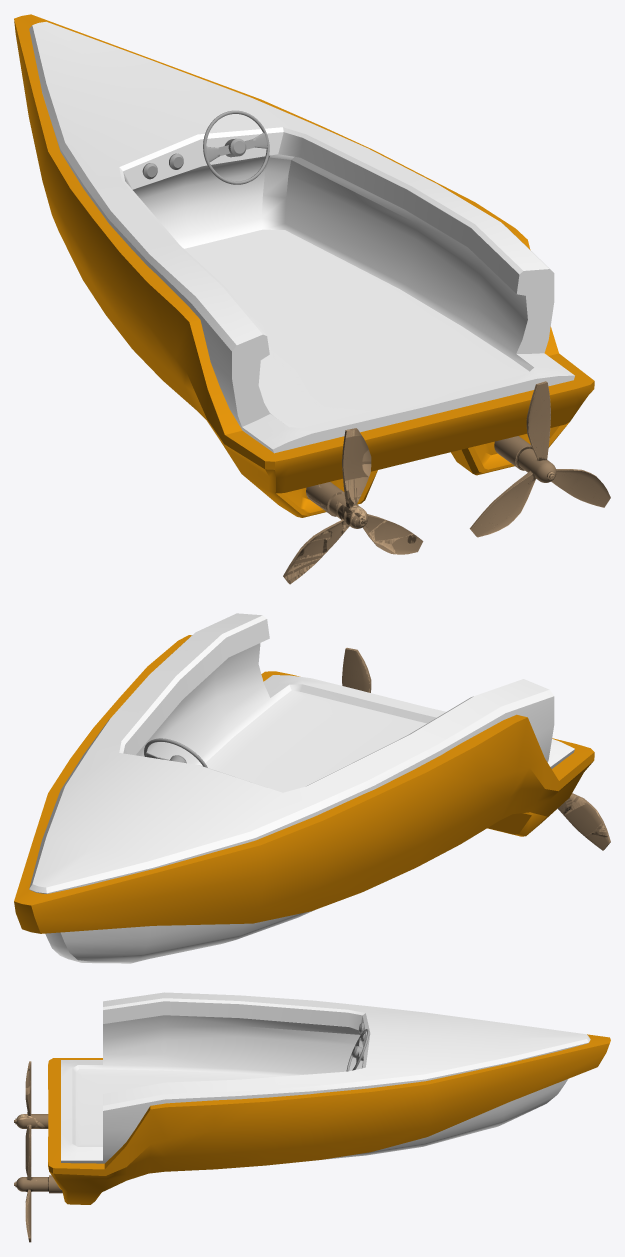
File: boat test.fbx
3 views of the same model, one above another, from view 1: azimuth 30°, elevation 25°; view 2: azimuth 150°, elevation 25°; view 3: azimuth 270°, elevation 25° (orthographic). The views are drawn at different scales.
Visible parts, largest first — view 1: boat_body, boat_parts, polySurface8, polySurface7, handle; view 2: boat_body, boat_parts, polySurface7, polySurface8, handle; view 3: boat_body, boat_parts, polySurface8, polySurface7, handle.
Boxes of the visible parts, x1,y1,x2,y2 form: boat_body: [29, 21, 574, 453]; boat_parts: [14, 14, 594, 517]; polySurface8: [469, 381, 610, 537]; polySurface7: [283, 428, 423, 584]; handle: [142, 110, 269, 184]; boat_body: [29, 613, 574, 963]; boat_parts: [14, 635, 594, 933]; polySurface7: [558, 793, 610, 850]; polySurface8: [342, 647, 371, 692]; handle: [144, 738, 207, 767]; boat_body: [61, 992, 590, 1163]; boat_parts: [48, 1034, 610, 1204]; polySurface8: [14, 1124, 62, 1242]; polySurface7: [14, 1061, 48, 1175]; handle: [346, 1022, 369, 1071].
Bounding box in the file's own units: 20.48 × 14.02 × 45.08.
